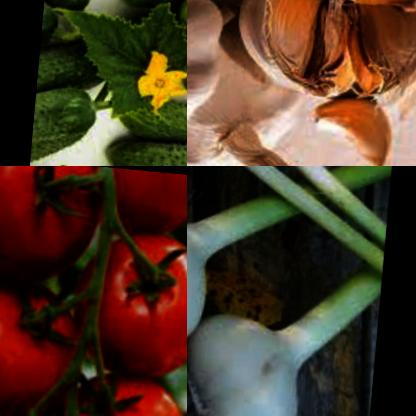cucumber: (36, 63, 127, 166), (42, 17, 138, 92), (121, 86, 187, 146), (109, 116, 187, 166), (147, 0, 187, 75), (46, 0, 111, 24)
garlic: (187, 27, 318, 166), (187, 290, 324, 416), (234, 0, 375, 108), (303, 74, 402, 165), (345, 0, 416, 110), (187, 184, 230, 362)
tomato: (0, 264, 95, 416), (87, 222, 187, 365), (0, 166, 109, 295), (70, 355, 187, 416), (99, 166, 187, 235)
